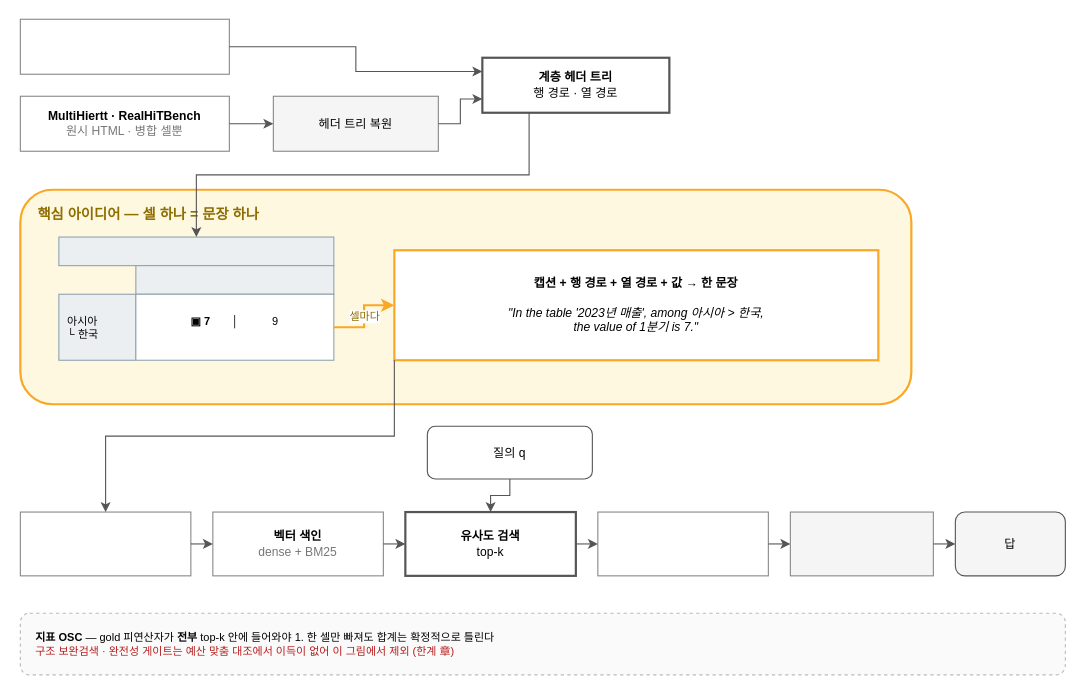
Some shapes in this 1085 by 694 pixel diagram are drawn without their labels. Each missing label, with the box of its shape:
1분기 │ 2분기: (135, 265, 334, 294)
HiTab · JSON 계층 트리 제공: (19, 18, 229, 74)
근거 셀 집합: (597, 511, 768, 576)
문장 임베딩 표의 모든 셀: (19, 511, 191, 576)
솔버: (789, 511, 933, 576)
표 캡션 · 2023년 매출: (58, 236, 334, 266)
